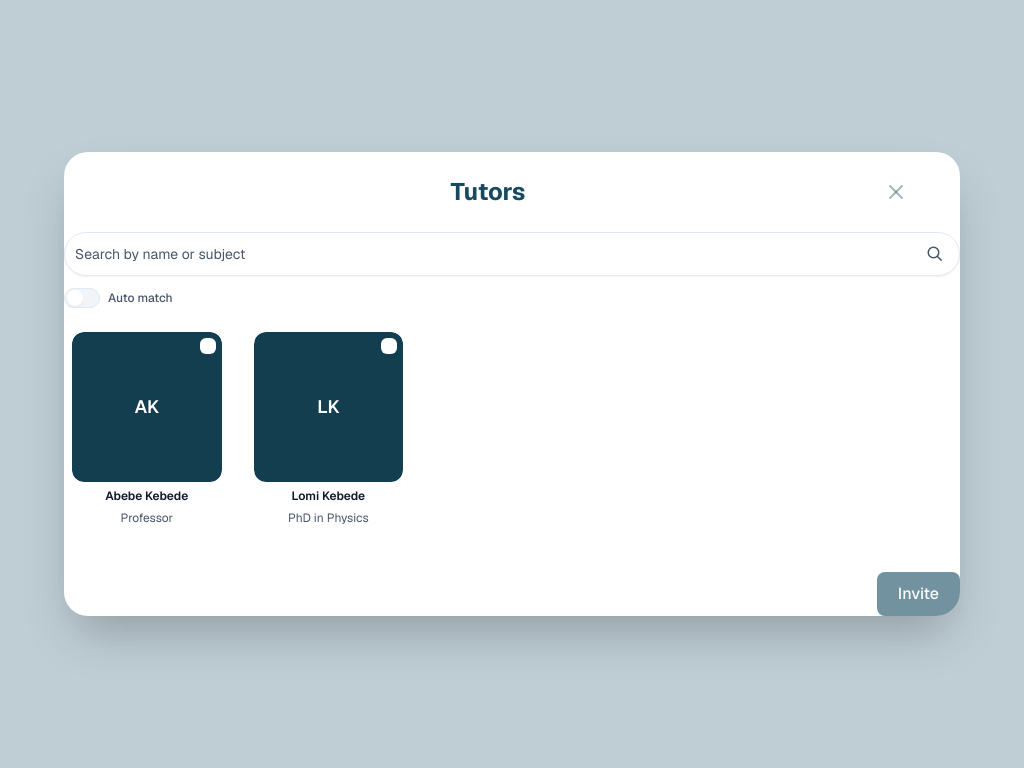
Test: TutorSelectionModal › filters by name
Type "lomi" into the search field named "Search tutors" at {"x": 494, "y": 254}, box x1=75 y1=238 x2=913 y2=270
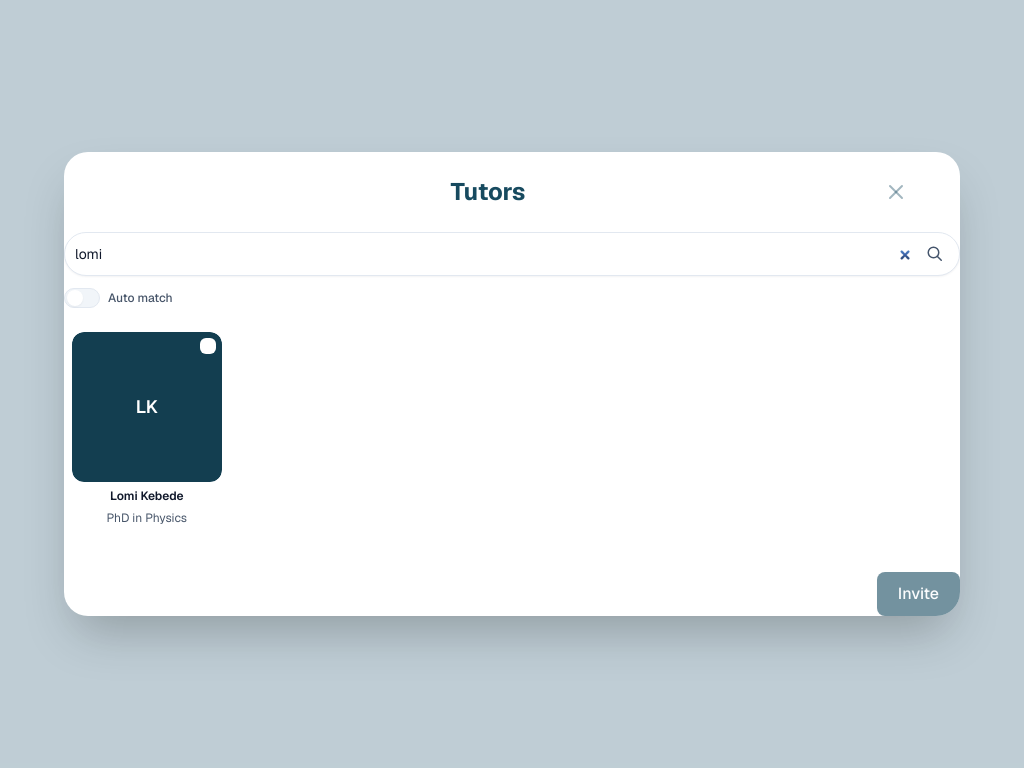
Expected: the text "Lomi Kebede" is shown, x1=110 y1=488 x2=184 y2=504
Now the button "Abebe Kebede" is gone
